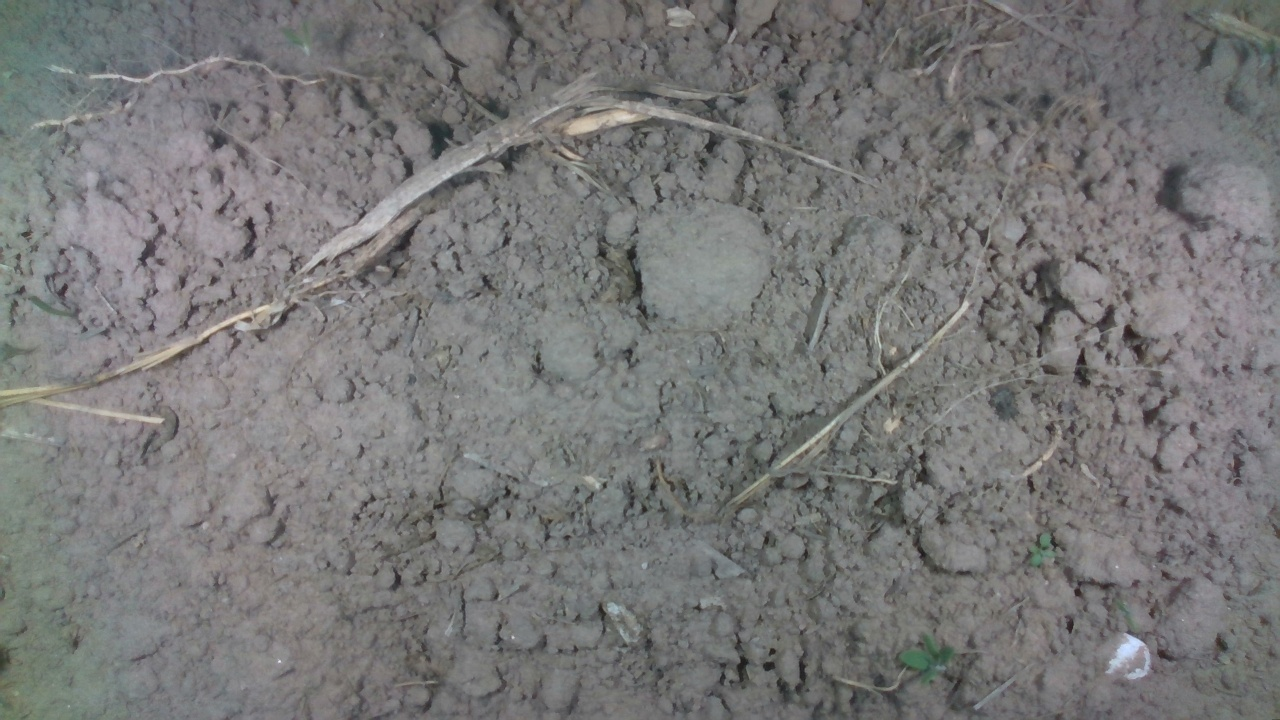weed: (895, 628, 959, 689), (1023, 530, 1059, 568)
